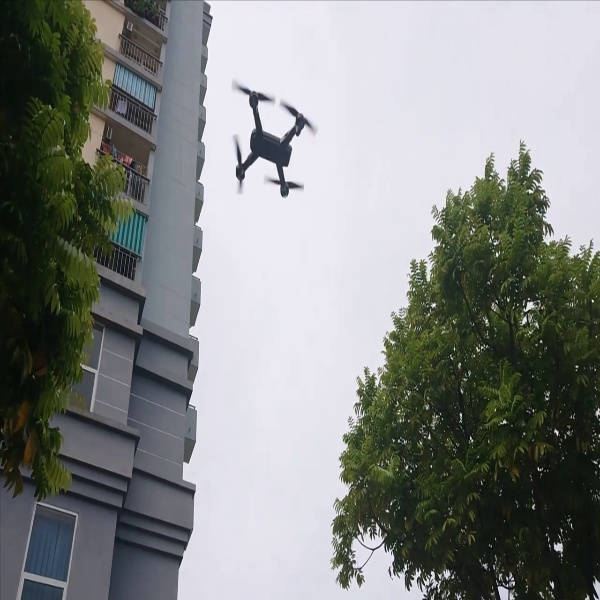drone: (219, 76, 324, 203)
